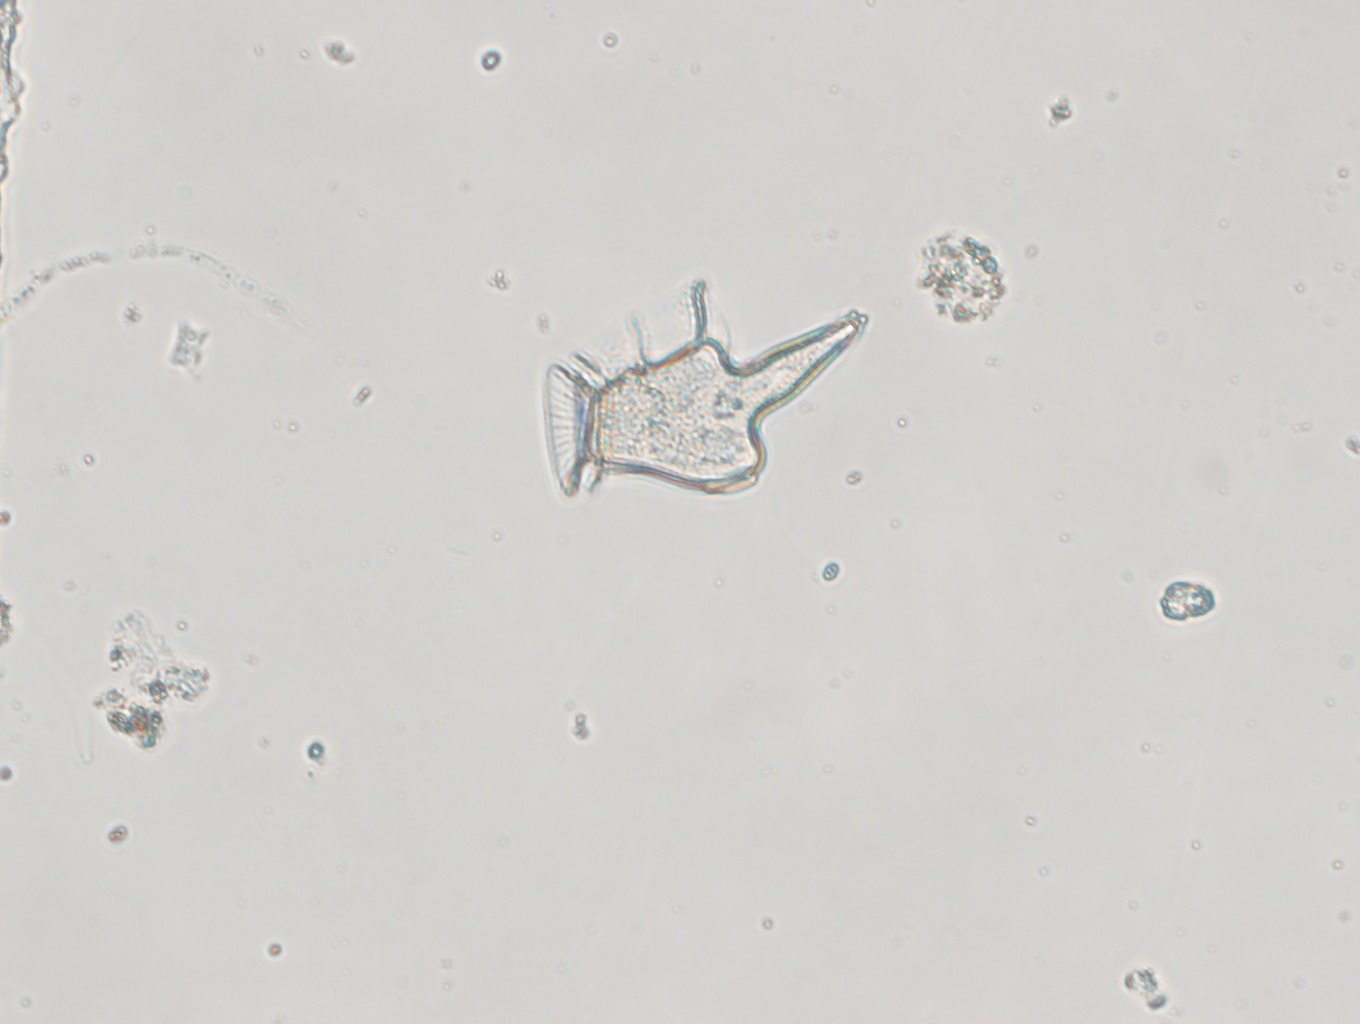dinophysis caudata: (538, 276, 873, 495)
